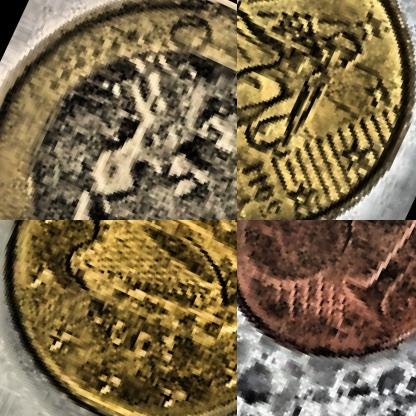coin: (0, 0, 236, 219), (0, 220, 236, 415), (237, 0, 415, 219), (237, 220, 415, 398)
